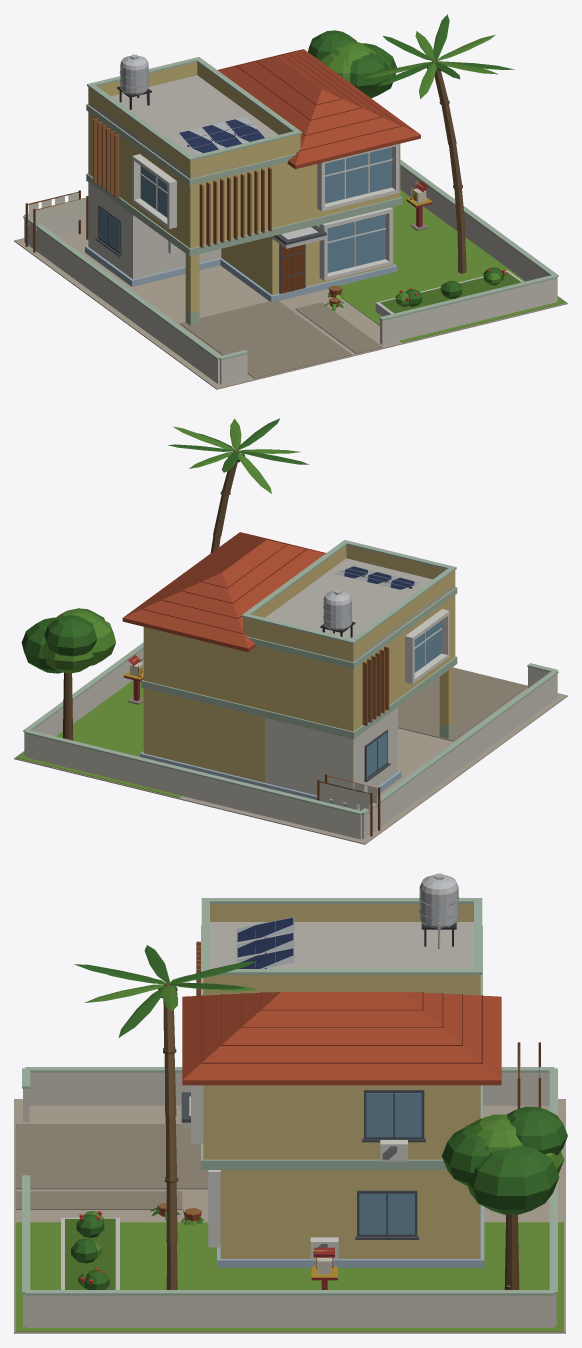
Rendered from home_1.glb.
3 views of the same model, one above another, from view 1: azimuth 30°, elevation 25°; view 2: azimuth 150°, elevation 25°; view 3: azimuth 270°, elevation 25° (orthographic). The views are drawn at different scales.
Visible parts, largest first — view 1: body; view 2: body; view 3: body.
Boxes of the visible parts, x1,y1,x2,y2 form: body: [14, 14, 567, 389]; body: [14, 418, 567, 844]; body: [14, 873, 567, 1333].
Size of the model in its own units: 16.21 by 10.55 by 15.96.
